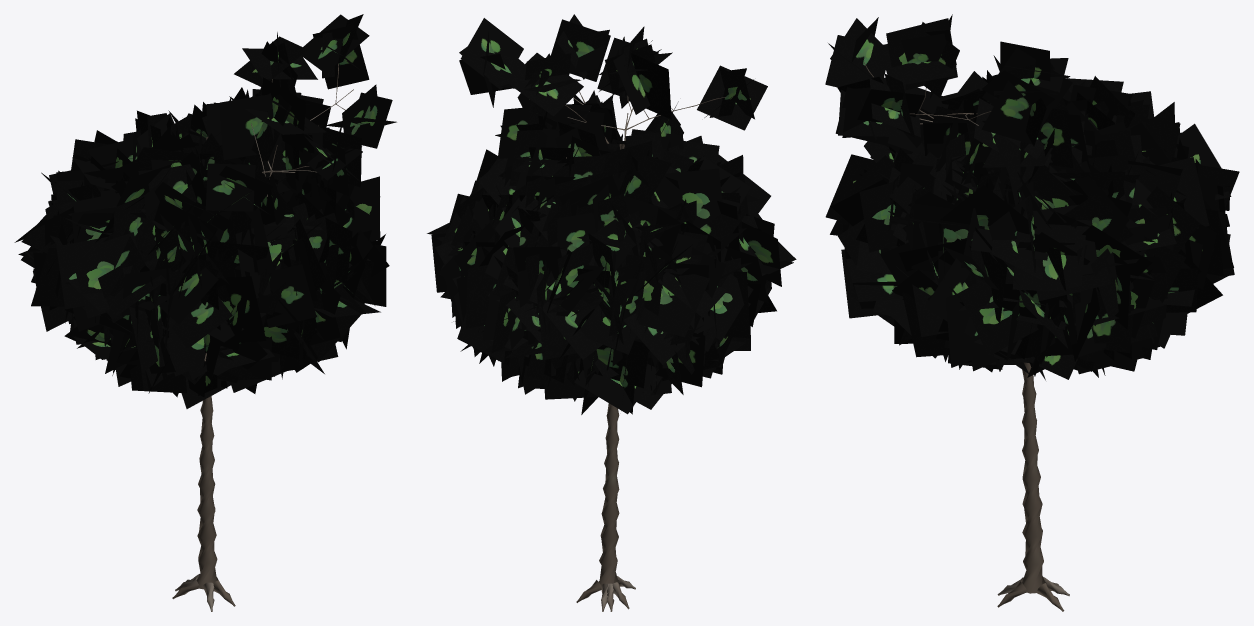
File: SM_Tree_Broadleaf_04.fbx
The picture shows the model from 3 angles, left to right: view 1: azimuth 30°, elevation 25°; view 2: azimuth 150°, elevation 25°; view 3: azimuth 270°, elevation 25°; orthographic projection. The views are drawn at different scales.
Visible parts, largest first — view 1: SM_Tree_Broadleaf_04; view 2: SM_Tree_Broadleaf_04; view 3: SM_Tree_Broadleaf_04.
Part boxes in pixels (x1=…): SM_Tree_Broadleaf_04: x1=14, y1=14, x2=396, y2=611; SM_Tree_Broadleaf_04: x1=427, y1=14, x2=796, y2=611; SM_Tree_Broadleaf_04: x1=825, y1=14, x2=1239, y2=611.
Bounding box in the file's own units: 4.48 × 7.38 × 4.56.
